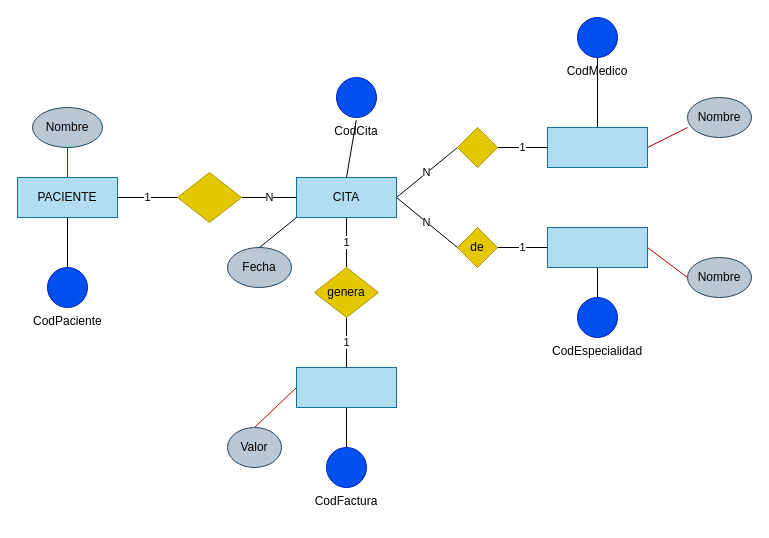
Image size: 769x538. Some labels were removed from this diagram. The shapes that lost their labels are listed below. From the top down, each one's box as (x1, y1, x2, y2) in pixels, then its label:
(456, 126, 498, 168): con
(546, 126, 648, 168): MEDICO
(176, 172, 242, 222): agenda
(546, 226, 648, 268): ESPECIALIDAD
(296, 366, 396, 408): FACTURA
